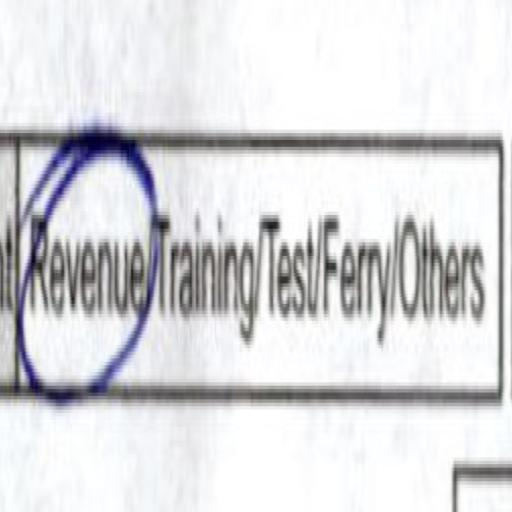check: (22, 88, 156, 420)
